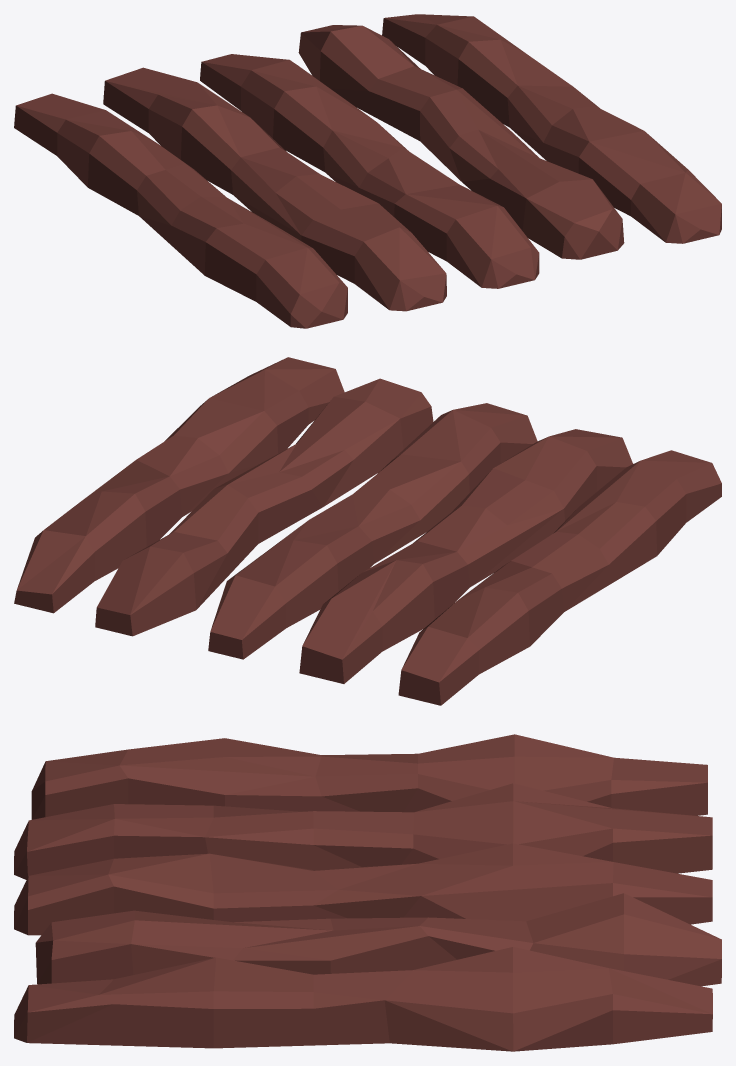
Rendered from Field_03.fbx.
The picture shows the model from 3 angles, top to bottom: view 1: azimuth 30°, elevation 25°; view 2: azimuth 150°, elevation 25°; view 3: azimuth 270°, elevation 25°; orthographic projection. The views are drawn at different scales.
Parts seen in each view (by area): view 1: Field_03.001, Field_03, Field_03.002, Field_03.004, Field_03.003; view 2: Field_03.001, Field_03, Field_03.003, Field_03.004, Field_03.002; view 3: Field_03.004, Field_03.002, Field_03.001, Field_03, Field_03.003.
Boxes of the visible parts, x1,y1,x2,y2 form: Field_03.001: (103,67,446,311); Field_03: (14,93,347,328); Field_03.002: (200,54,539,288); Field_03.004: (382,14,721,243); Field_03.003: (298,25,624,259); Field_03.001: (299,429,632,683); Field_03: (398,450,721,705); Field_03.003: (95,378,433,636); Field_03.004: (14,357,344,613); Field_03.002: (208,403,537,659); Field_03.004: (14,947,712,1051); Field_03.002: (14,843,712,935); Field_03.001: (14,783,712,879); Field_03: (31,734,707,819); Field_03.003: (35,893,721,986).
Size of the model in its own units: 574 by 65.38 by 645.
